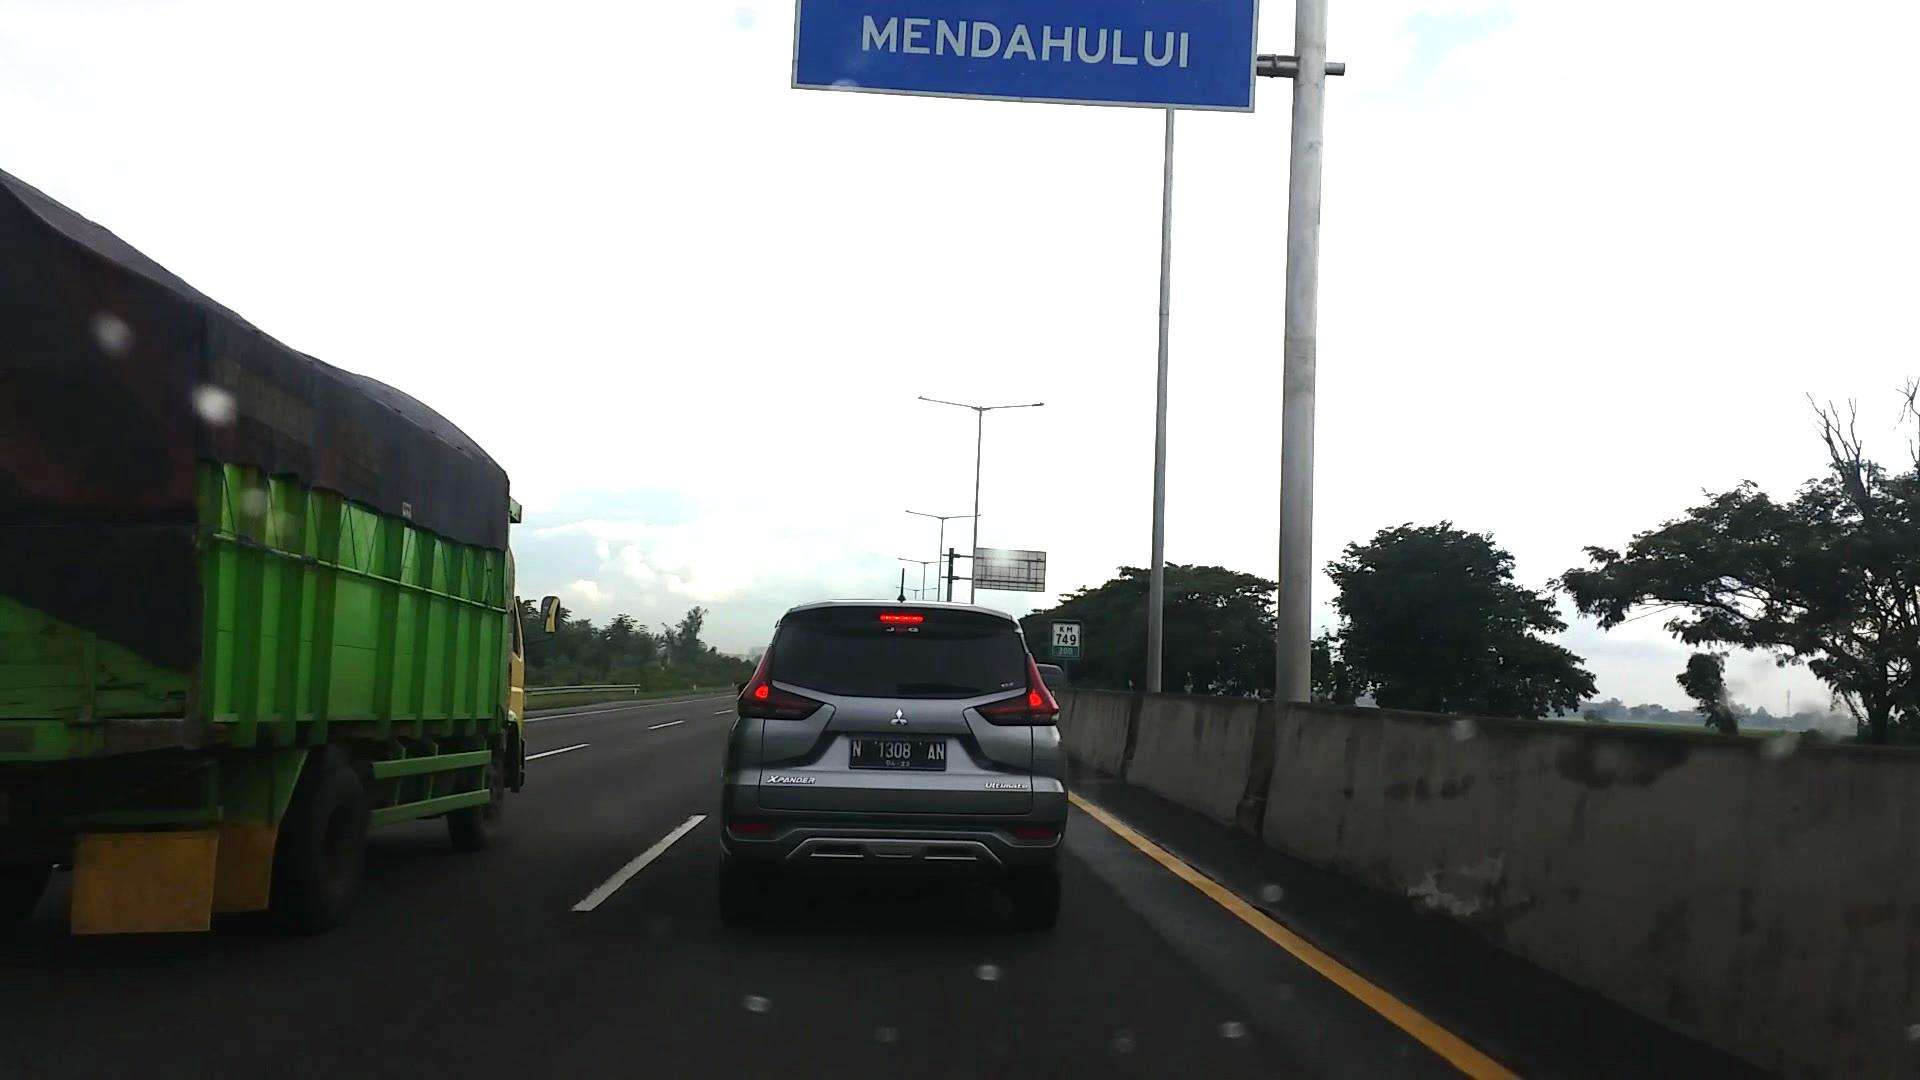plate_positive: (849, 738, 945, 771)
